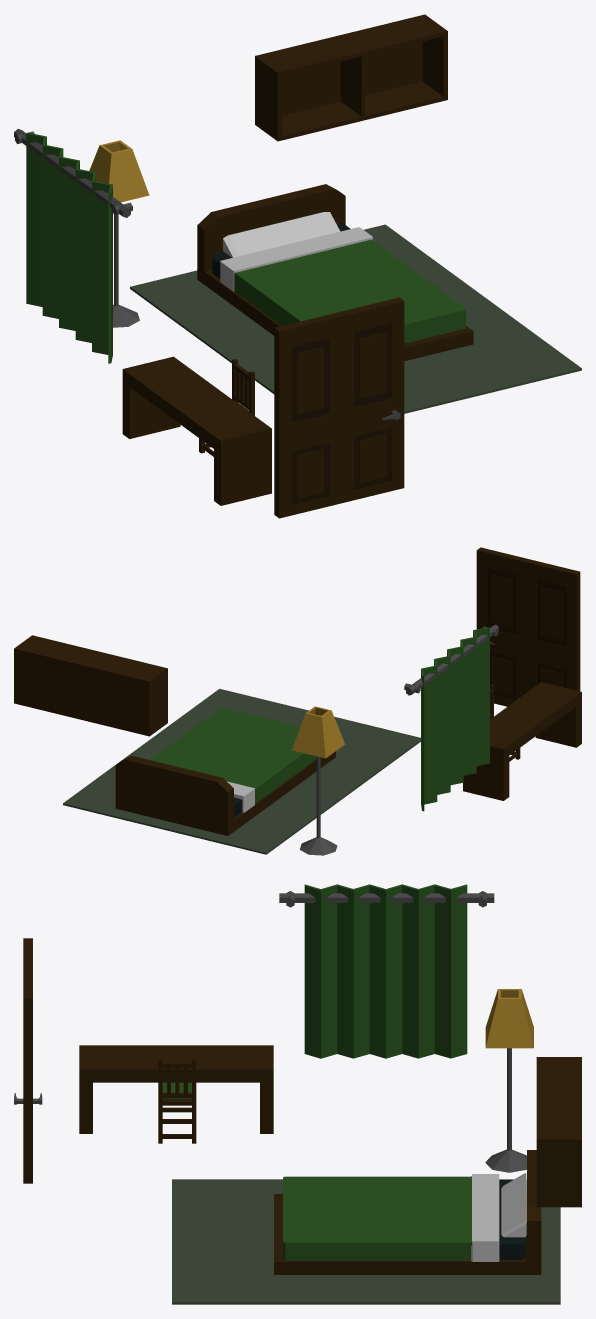
The model's file is PropsHab.fbx.
The picture shows the model from 3 angles, top to bottom: view 1: azimuth 30°, elevation 25°; view 2: azimuth 150°, elevation 25°; view 3: azimuth 270°, elevation 25°; orthographic projection. The views are drawn at different scales.
Parts seen in each view (by area): view 1: Estructura_Puerta, Alfombra, Estantería_Pared, Sabana, Tela, Mesa, Estructura_Cama, Almohada, Cabeza, Estructura_Silla, Barra; view 2: Alfombra, Estructura_Puerta, Estantería_Pared, Tela, Sabana, Estructura_Cama, Mesa, Cabeza, Barra, Pie, Palo; view 3: Tela, Alfombra, Sabana, Mesa, Estantería_Pared, Estructura_Cama, Cabeza, Estructura_Puerta, Estructura_Silla, Almohada, Barra, Colchón (+1 smaller).
Part boxes in pixels (left/top/right/bottom): Estructura_Puerta: left=274, top=297, right=404, bottom=518; Alfombra: left=130, top=224, right=581, bottom=413; Estantería_Pared: left=255, top=14, right=447, bottom=141; Sabana: left=220, top=227, right=465, bottom=343; Tela: left=26, top=133, right=112, bottom=363; Mesa: left=122, top=356, right=271, bottom=505; Estructura_Cama: left=197, top=184, right=473, bottom=361; Almohada: left=223, top=212, right=340, bottom=257; Cabeza: left=89, top=140, right=149, bottom=202; Estructura_Silla: left=199, top=358, right=254, bottom=456; Barra: left=14, top=129, right=130, bottom=217; Alfombra: left=63, top=688, right=420, bottom=854; Estructura_Puerta: left=476, top=547, right=580, bottom=706; Estantería_Pared: left=14, top=635, right=167, bottom=736; Tela: left=421, top=627, right=489, bottom=811; Sabana: left=150, top=707, right=316, bottom=812; Estructura_Cama: left=115, top=751, right=335, bottom=835; Mesa: left=463, top=682, right=581, bottom=800; Cabeza: left=292, top=706, right=344, bottom=758; Barra: left=406, top=624, right=498, bottom=695; Pie: left=299, top=837, right=337, bottom=855; Palo: left=316, top=756, right=320, bottom=838; Tela: left=304, top=884, right=467, bottom=1058; Alfombra: left=172, top=1179, right=560, bottom=1304; Sabana: left=283, top=1174, right=499, bottom=1261; Mesa: left=79, top=1045, right=273, bottom=1133; Estantería_Pared: left=536, top=1057, right=581, bottom=1207; Estructura_Cama: left=274, top=1150, right=541, bottom=1274; Cabeza: left=485, top=989, right=533, bottom=1048; Estructura_Puerta: left=23, top=938, right=32, bottom=1183; Estructura_Silla: left=158, top=1058, right=196, bottom=1143; Almohada: left=501, top=1173, right=526, bottom=1237; Barra: left=279, top=893, right=494, bottom=902; Colchón: left=499, top=1180, right=526, bottom=1259.
Size of the model in its own units: 539 by 257 by 585.
